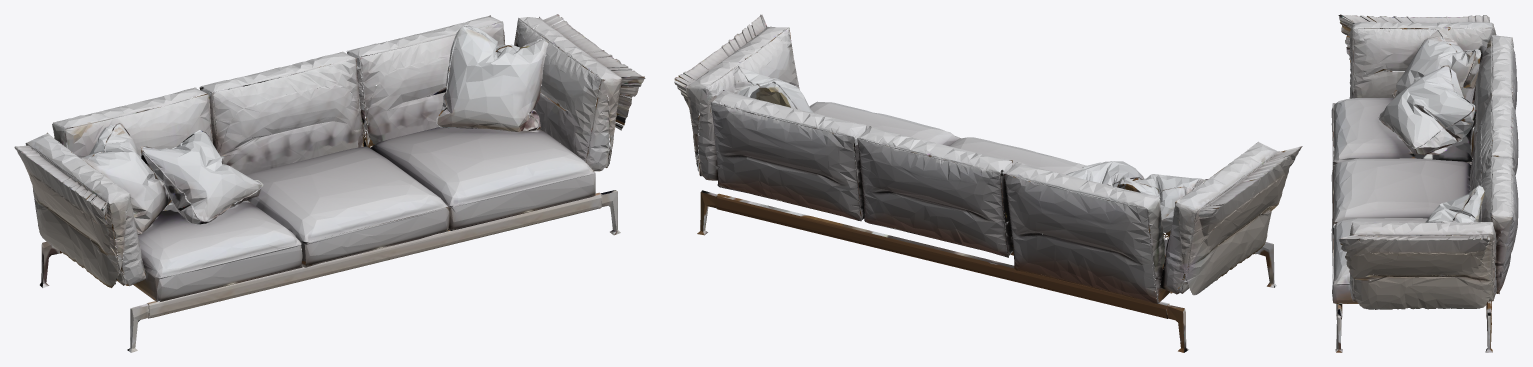
The model's file is edited_mesh.glb.
3 renders of one model, left to right at view 1: azimuth 30°, elevation 25°; view 2: azimuth 150°, elevation 25°; view 3: azimuth 270°, elevation 25°, orthographic. The views are drawn at different scales.
Visible parts, largest first — view 1: solid_001_wire; view 2: solid_001_wire; view 3: solid_001_wire.
Boxes of the visible parts, x1,y1,x2,y2 form: solid_001_wire: [14, 14, 645, 352]; solid_001_wire: [674, 14, 1302, 352]; solid_001_wire: [1331, 14, 1518, 352].
Bounding box in the file's own units: 2 × 0.577 × 0.7051.
Materials: 1 (1 with a texture image).
